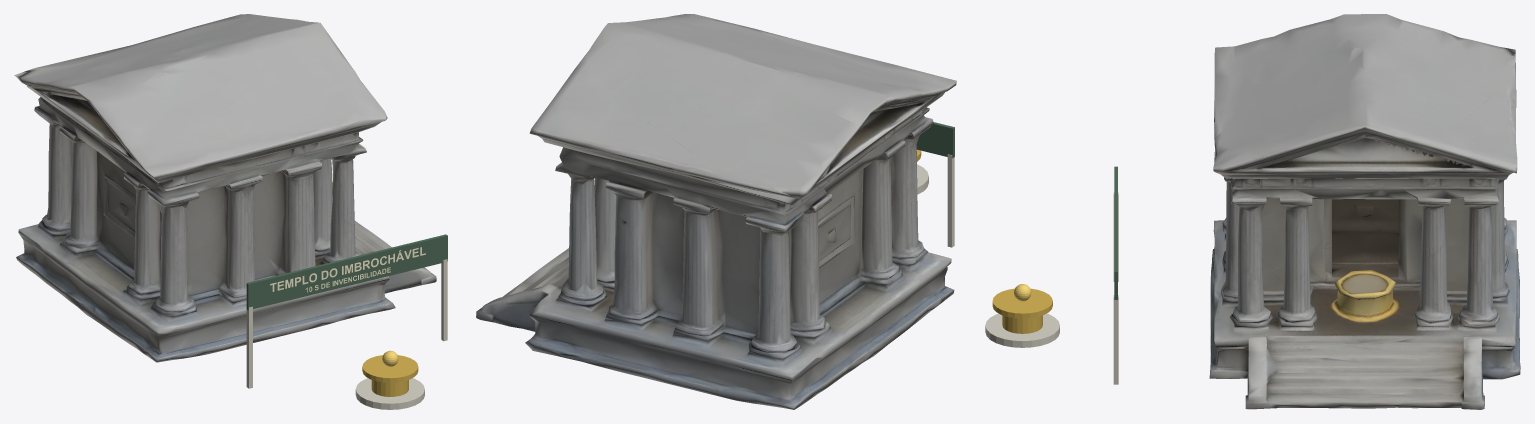
The model's file is secret-temple.glb.
3 views of the same model, side by side, from view 1: azimuth 30°, elevation 25°; view 2: azimuth 150°, elevation 25°; view 3: azimuth 270°, elevation 25° (orthographic). The views are drawn at different scales.
Parts seen in each view (by area): view 1: tripo_node_2aee081f-3bf4-48a9-894c-037814805fb8, Temple_Sign, Courtyard_Altar_Base, Courtyard_Altar_Top, Sign_TEMPLO DO IMBROCHÁVEL, Temple_Sign_Post, Temple_Sign_Post.001, Courtyard_Altar_Stem; view 2: tripo_node_2aee081f-3bf4-48a9-894c-037814805fb8, Temple_Sign, Temple_Sign_Post; view 3: tripo_node_2aee081f-3bf4-48a9-894c-037814805fb8, Courtyard_Altar_Base, Courtyard_Altar_Top, Courtyard_Altar_Stem, Temple_Sign, Temple_Sign_Post.001.
Boxes of the visible parts, box(x1,y1,x2,y2) form: tripo_node_2aee081f-3bf4-48a9-894c-037814805fb8: box(14, 14, 436, 362); Temple_Sign: box(246, 234, 447, 310); Courtyard_Altar_Base: box(355, 378, 424, 409); Courtyard_Altar_Top: box(362, 355, 418, 382); Sign_TEMPLO DO IMBROCHÁVEL: box(270, 247, 425, 291); Temple_Sign_Post: box(246, 306, 252, 388); Temple_Sign_Post.001: box(441, 259, 447, 341); Courtyard_Altar_Stem: box(371, 380, 408, 396); tripo_node_2aee081f-3bf4-48a9-894c-037814805fb8: box(476, 14, 956, 409); Temple_Sign: box(916, 122, 954, 158); Temple_Sign_Post: box(947, 154, 954, 247); tripo_node_2aee081f-3bf4-48a9-894c-037814805fb8: box(1209, 14, 1520, 409); Courtyard_Altar_Base: box(985, 313, 1059, 347); Courtyard_Altar_Top: box(992, 288, 1052, 318); Courtyard_Altar_Stem: box(1002, 315, 1042, 333); Temple_Sign: box(1114, 166, 1117, 299); Temple_Sign_Post.001: box(1113, 295, 1118, 384).
Bounding box in the file's own units: 12 × 9 × 17.2.
6 materials, 1 textured.
